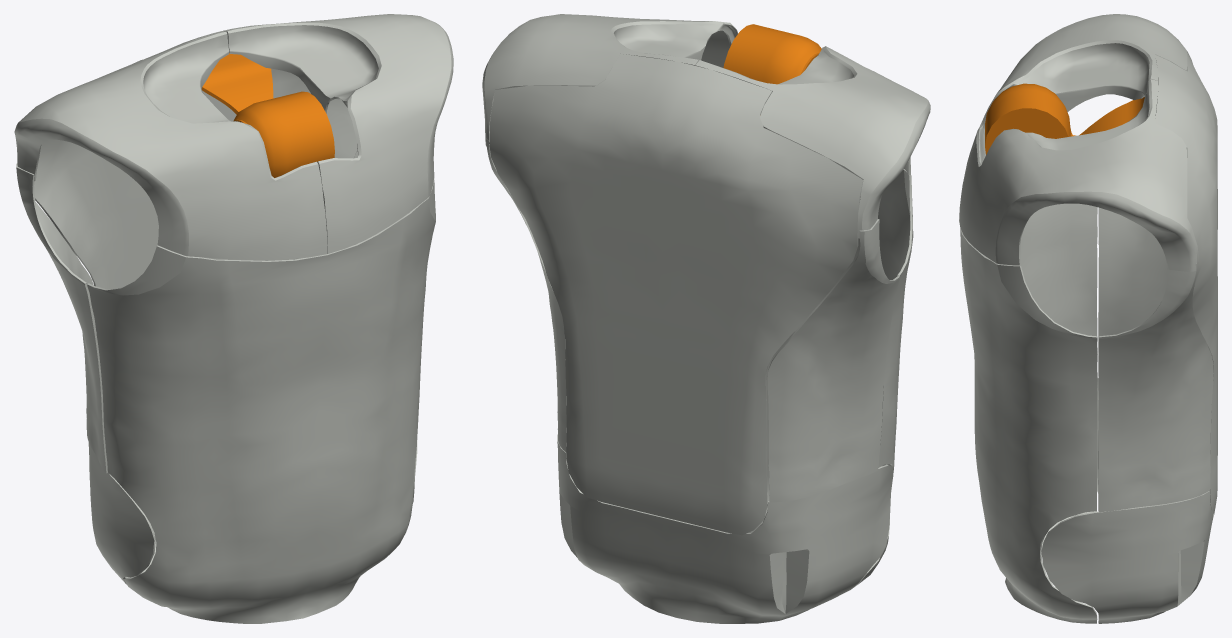
File: Body.dae
3 renders of one model, left to right at view 1: azimuth 30°, elevation 25°; view 2: azimuth 150°, elevation 25°; view 3: azimuth 270°, elevation 25°, orthographic. The views are drawn at different scales.
Parts seen in each view (by area): view 1: Mesh; view 2: Mesh; view 3: Mesh.
Boxes of the visible parts, x1,y1,x2,y2 form: Mesh: (14, 14, 453, 623); Mesh: (482, 14, 930, 623); Mesh: (959, 14, 1217, 623).
Bounding box in the file's own units: 0.5431 × 0.6746 × 0.3145.
Materials: 2 (2 with a texture image).
